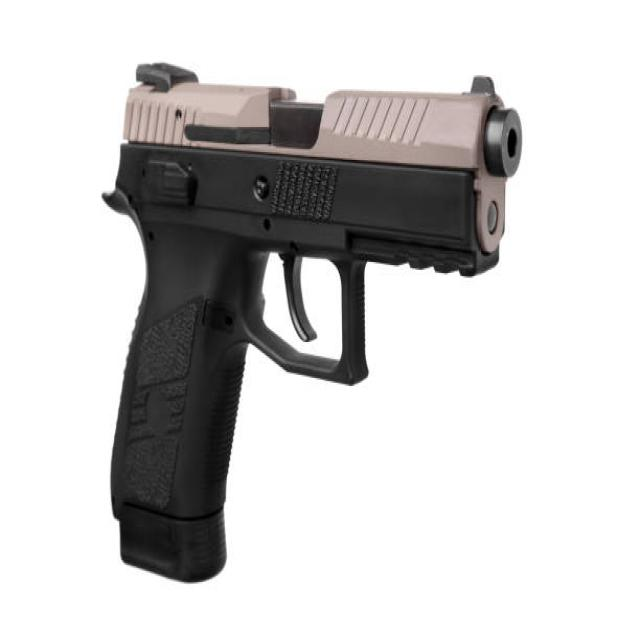pistol: (95, 47, 530, 589)
